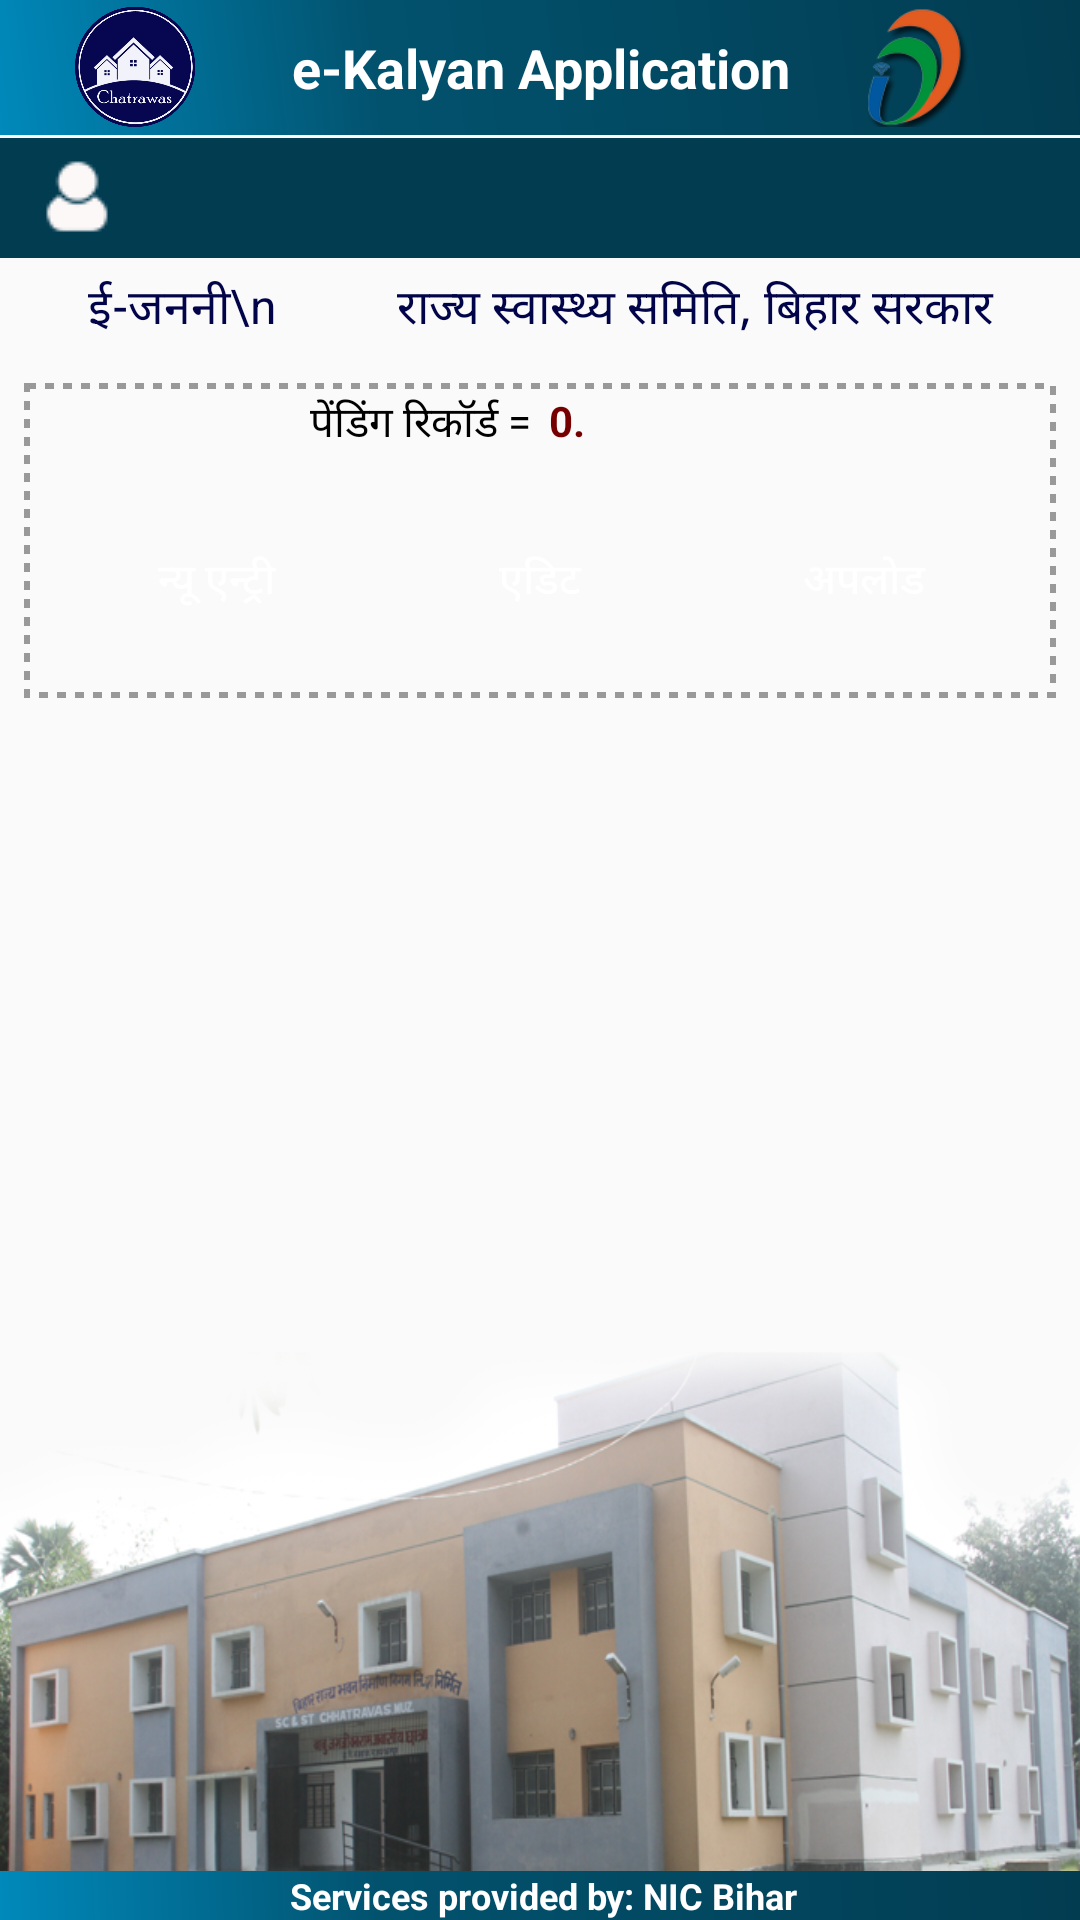

Point at icon controls on the screen. Image size 1080×1920, points as (x,y).
user: (77,196)
